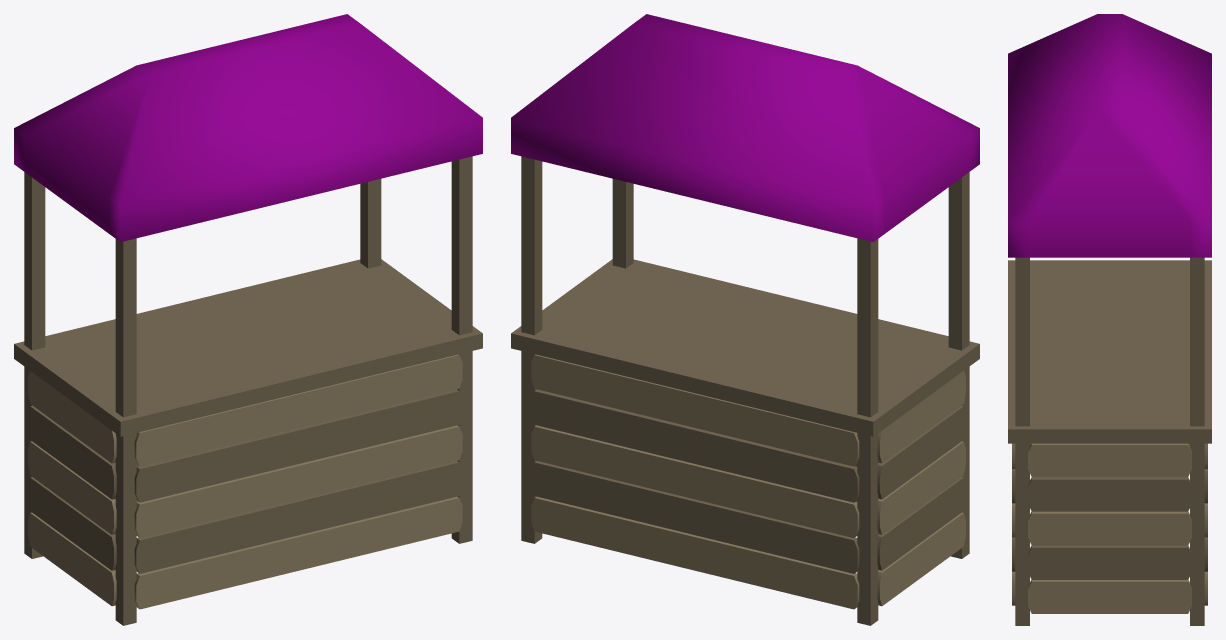
The model's file is WitchStall.fbx.
3 renders of one model, left to right at view 1: azimuth 30°, elevation 25°; view 2: azimuth 150°, elevation 25°; view 3: azimuth 270°, elevation 25°, orthographic. The views are drawn at different scales.
Visible parts, largest first — view 1: WitchStall, WitchStall_Top; view 2: WitchStall, WitchStall_Top; view 3: WitchStall, WitchStall_Top.
Boxes of the visible parts, x1,y1,x2,y2 form: WitchStall: (14,156,482,625); WitchStall_Top: (14,14,482,242); WitchStall: (511,156,979,625); WitchStall_Top: (511,14,979,242); WitchStall: (1008,257,1211,625); WitchStall_Top: (1008,14,1211,257).
Size of the model in its own units: 27.5 by 36.45 by 14.
